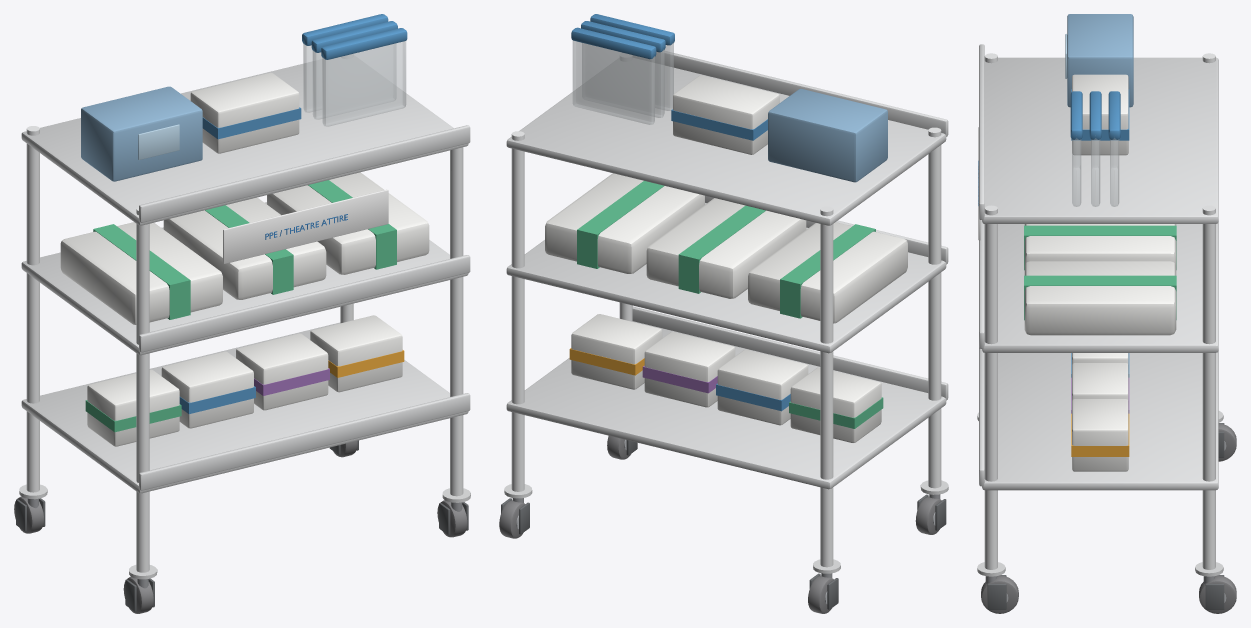
Rendered from PPETrolley.fbx.
3 views of the same model, side by side, from view 1: azimuth 30°, elevation 25°; view 2: azimuth 150°, elevation 25°; view 3: azimuth 270°, elevation 25° (orthographic).
Parts seen in each view (by area): view 1: PPETrolley_Mesh; view 2: PPETrolley_Mesh; view 3: PPETrolley_Mesh.
Boxes of the visible parts, <box> form: PPETrolley_Mesh: <box>14,14,470,613</box>; PPETrolley_Mesh: <box>499,14,948,613</box>; PPETrolley_Mesh: <box>977,14,1236,613</box>.
Bounding box in the file's own units: 0.82 × 1.11 × 0.548.
